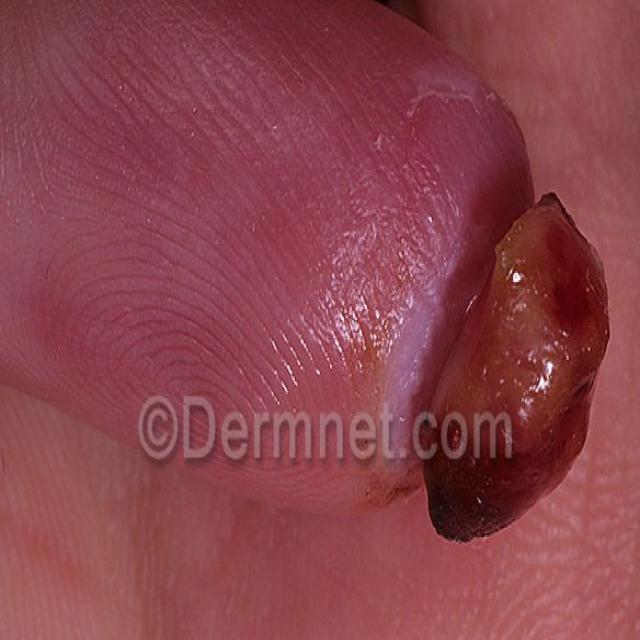Vascular Tumors: (415, 151, 616, 554)
